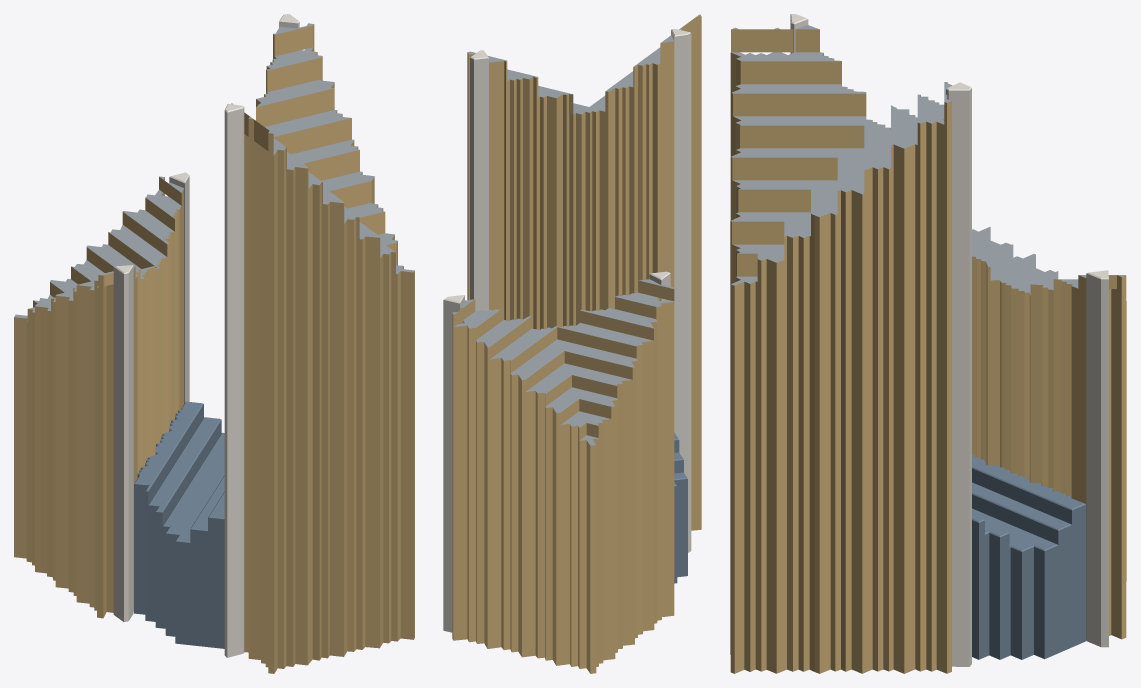
File: tor-royal-bank-plaza.glb
3 views of the same model, side by side, from view 1: azimuth 30°, elevation 25°; view 2: azimuth 150°, elevation 25°; view 3: azimuth 270°, elevation 25° (orthographic). The views are drawn at different scales.
Visible parts, largest first — view 1: Royal Bank Plaza; view 2: Royal Bank Plaza; view 3: Royal Bank Plaza.
Part boxes in pixels (box(x1,y1,x2,y2)): Royal Bank Plaza: box(14, 14, 414, 673); Royal Bank Plaza: box(443, 14, 701, 673); Royal Bank Plaza: box(730, 14, 1126, 673).
Bounding box in the file's own units: 75.24 × 180 × 112.
